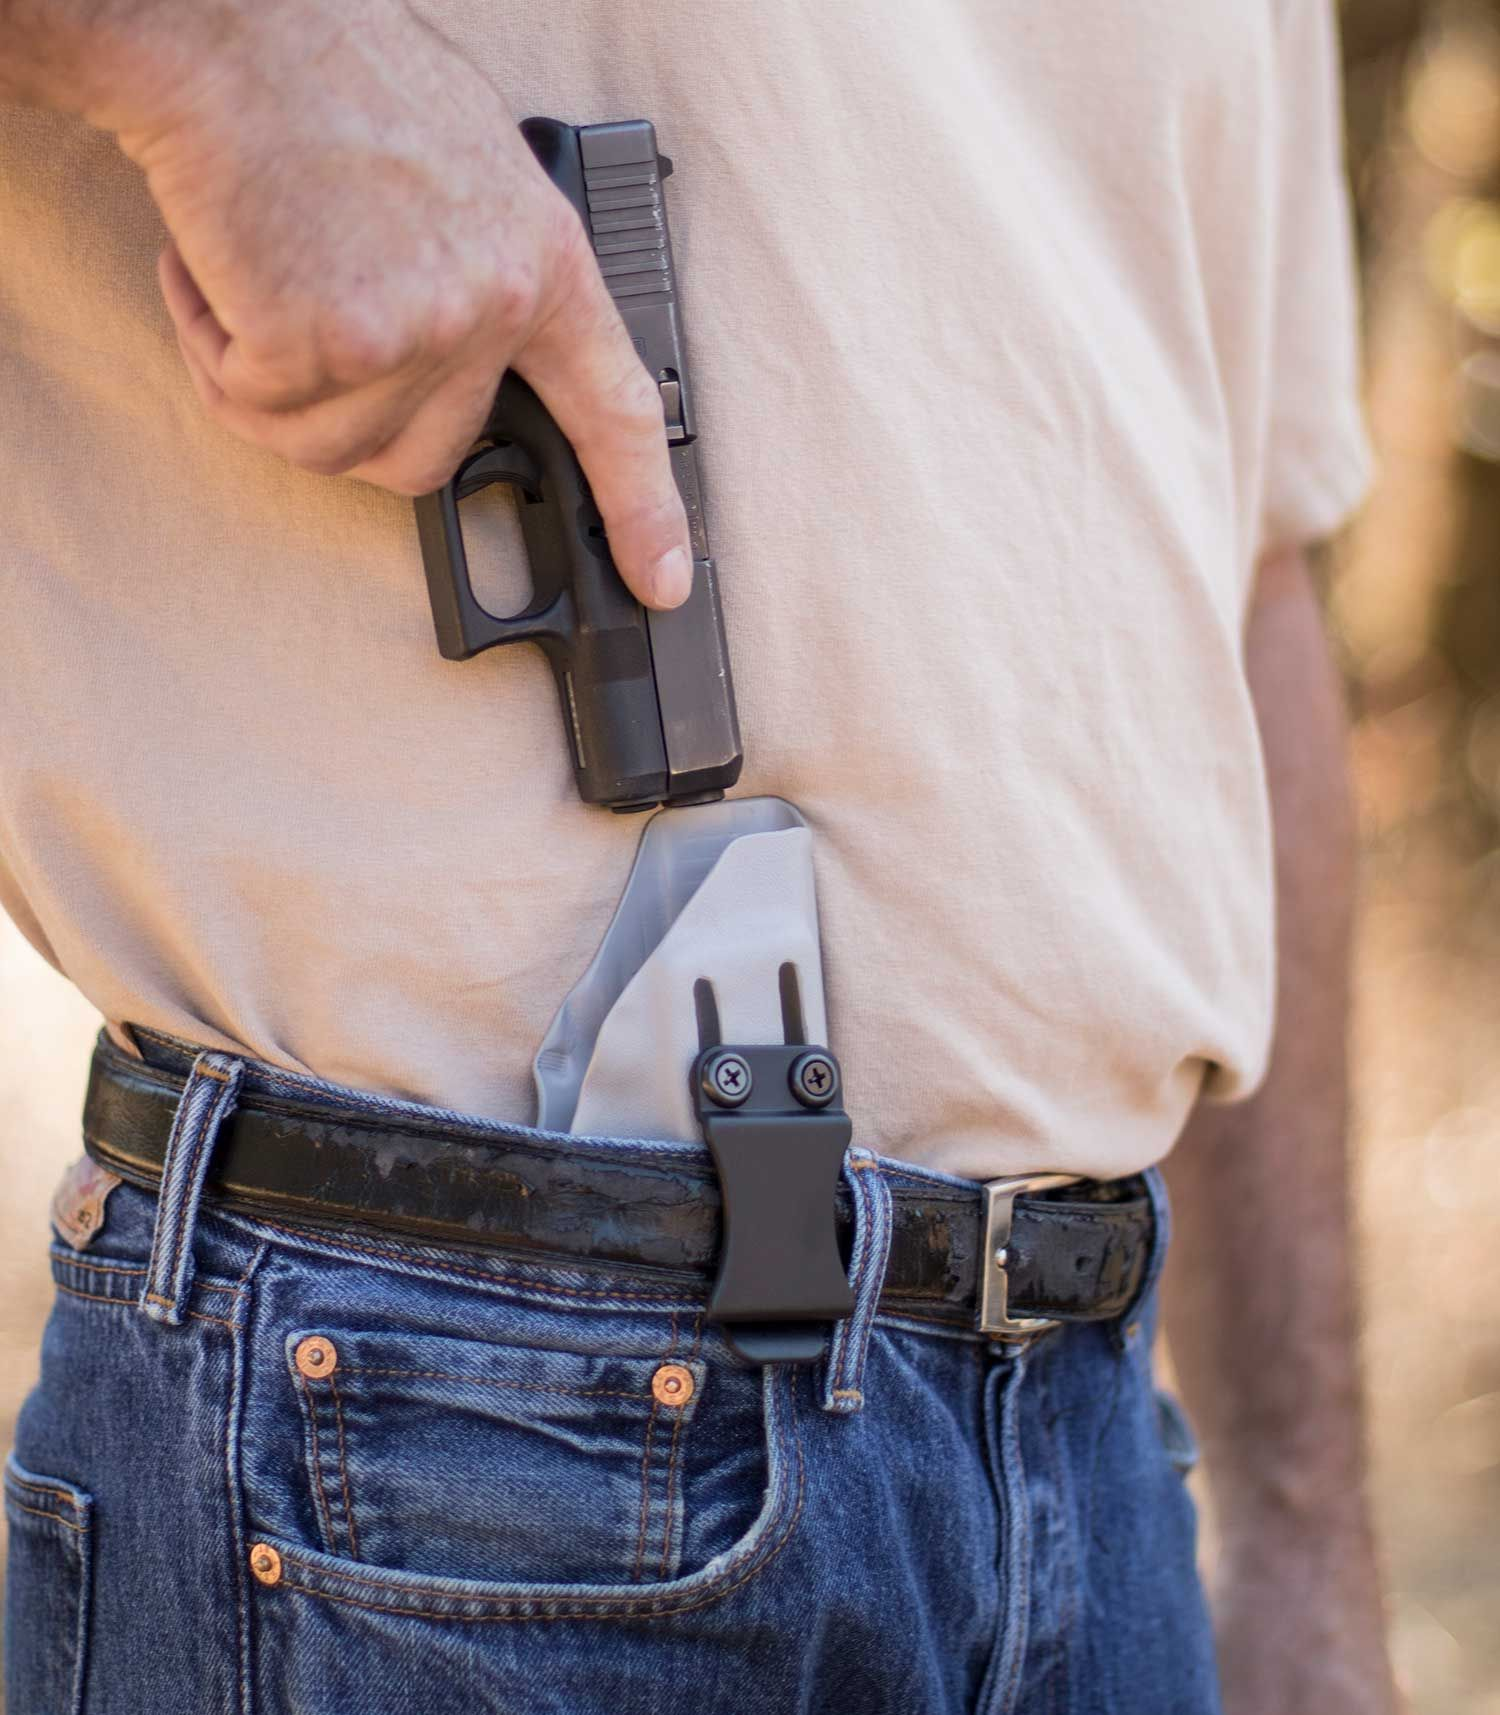gun: (410, 98, 809, 849)
